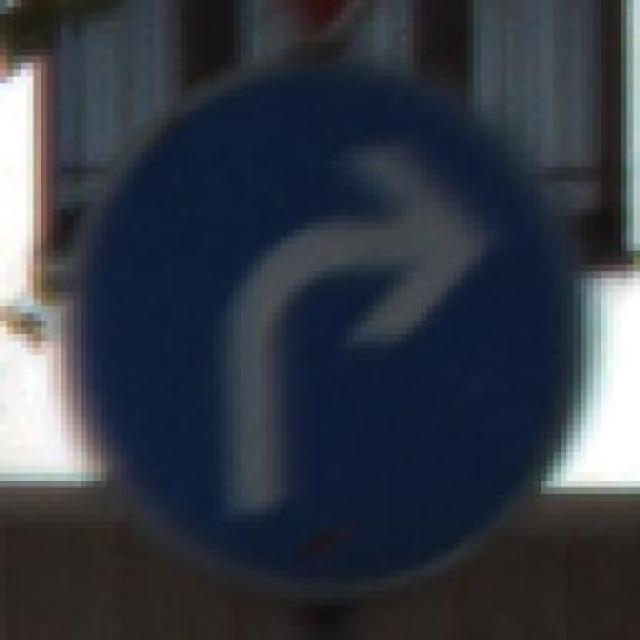Turn right ahead: (53, 41, 593, 598)
